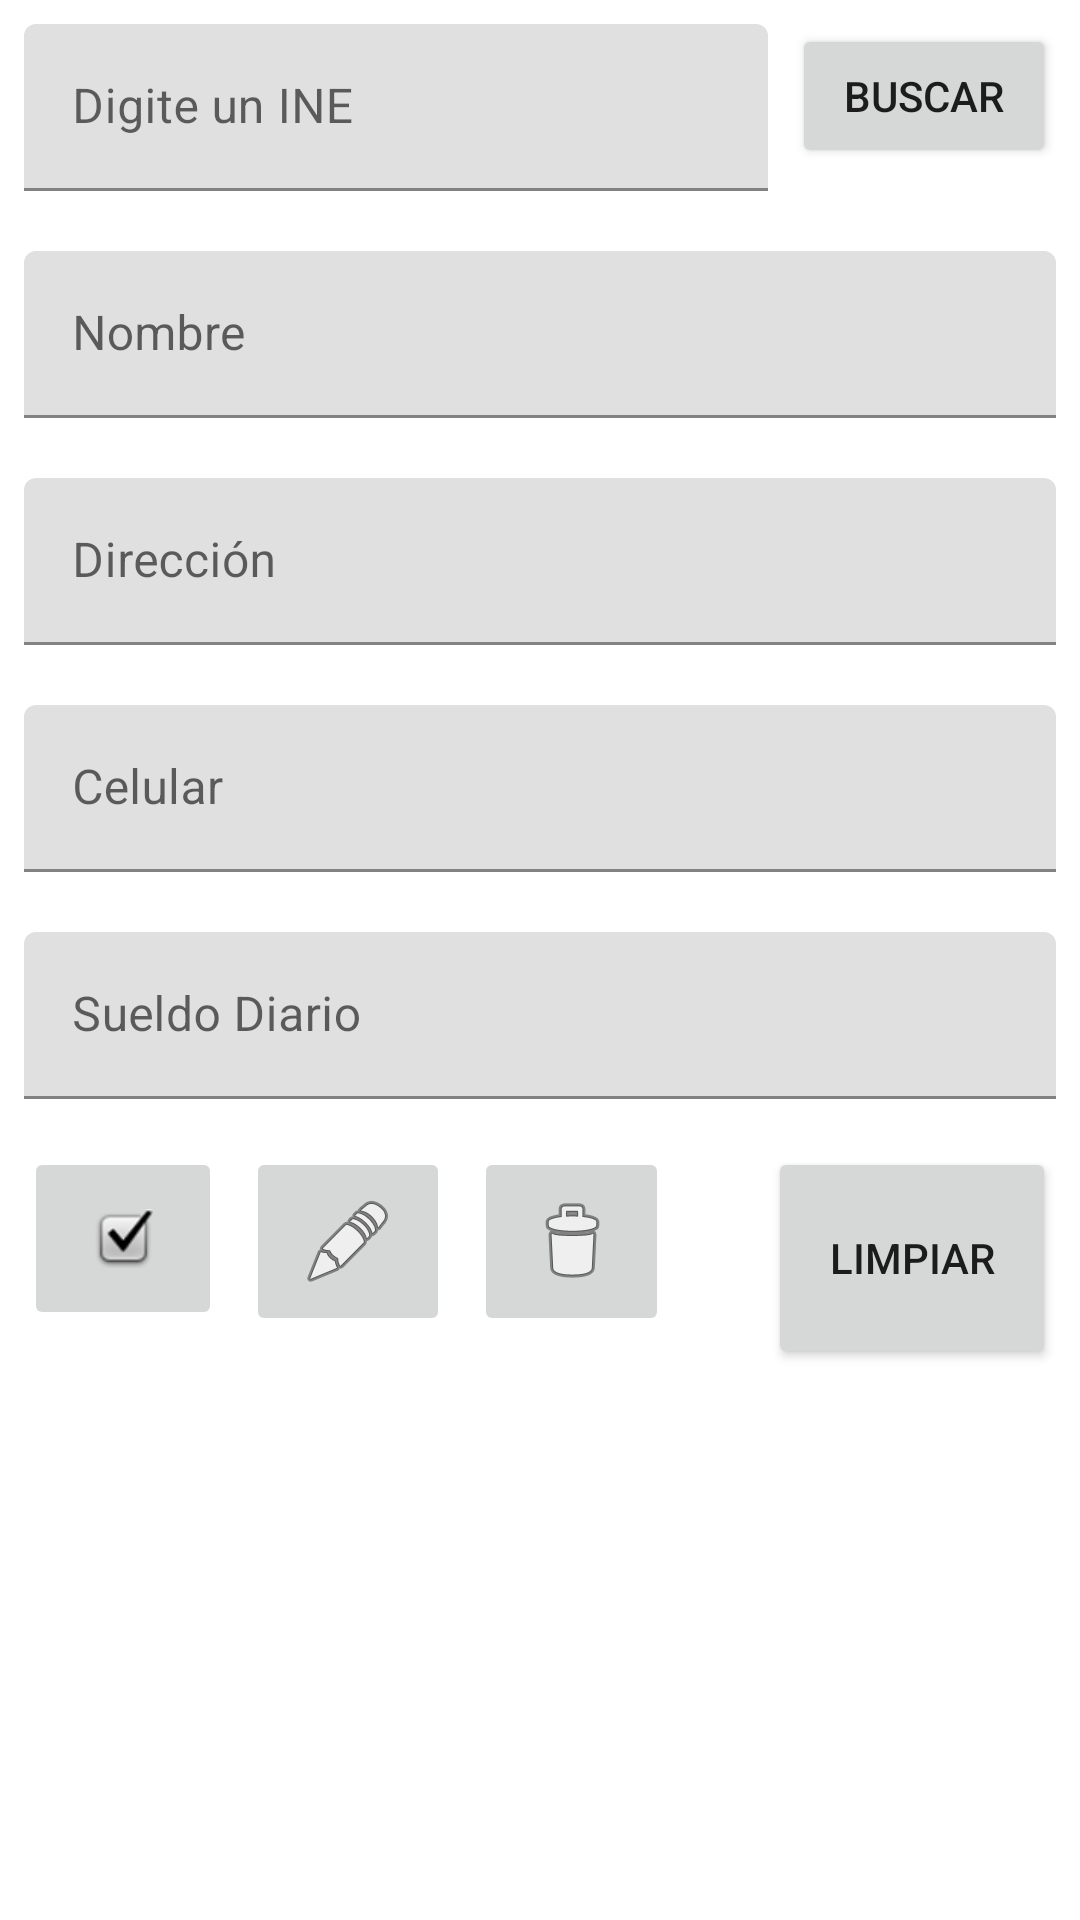

Point at icon controls on the screen. Image size 1080px x 1920px, points as (x,y).
delete: (571,1241)
edit: (348,1241)
